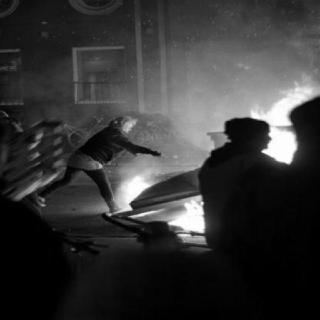Fire: (120, 81, 314, 241)
